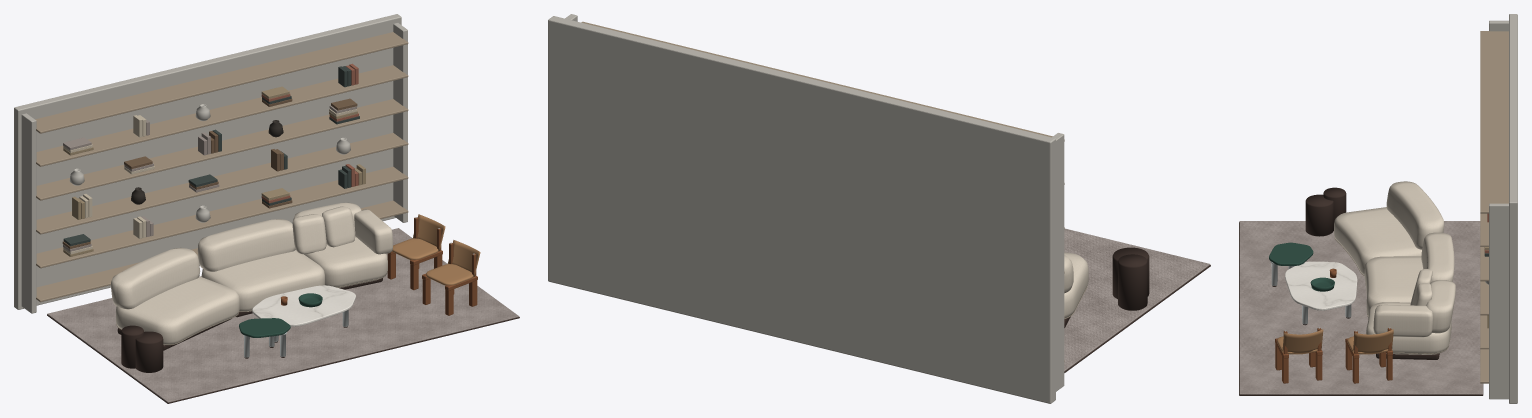
Rendered from lounge.glb.
3 views of the same model, side by side, from view 1: azimuth 30°, elevation 25°; view 2: azimuth 150°, elevation 25°; view 3: azimuth 270°, elevation 25° (orthographic). The views are drawn at different scales.
Parts seen in each view (by area): view 1: MolteniGallery, MolteniEmile, MolteniRug, MolteniMaylis, MolteniMetal; view 2: MolteniGallery, MolteniRug, MolteniEmile; view 3: MolteniRug, MolteniGallery, MolteniEmile, MolteniMaylis, MolteniMetal.
Boxes of the visible parts, x1,y1,x2,y2 form: MolteniGallery: (14, 14, 519, 403); MolteniEmile: (111, 202, 392, 345); MolteniRug: (47, 228, 519, 402); MolteniMaylis: (252, 285, 355, 326); MolteniMetal: (243, 217, 474, 357); MolteniGallery: (548, 14, 1210, 403); MolteniRug: (1064, 228, 1210, 371); MolteniEmile: (1064, 252, 1088, 318); MolteniRug: (1239, 221, 1482, 394); MolteniGallery: (1239, 14, 1517, 403); MolteniEmile: (1334, 181, 1455, 354); MolteniMaylis: (1285, 261, 1357, 310); MolteniMetal: (1270, 261, 1390, 331).
Size of the model in its own units: 5.58 by 2.78 by 3.48.
Materials: 5 (3 with a texture image).
